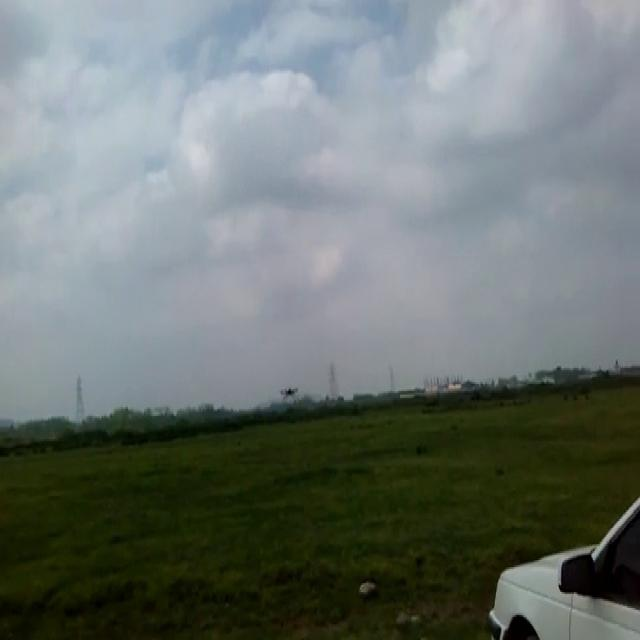drone: (278, 381, 300, 404)
